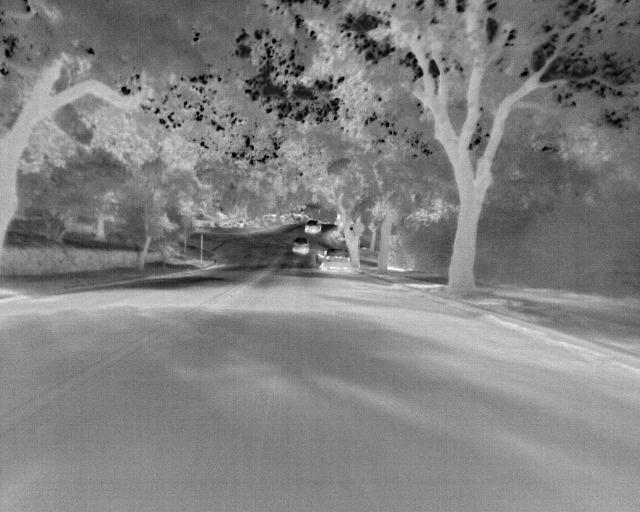car: (321, 246, 352, 275), (292, 237, 310, 256), (304, 220, 320, 233)
